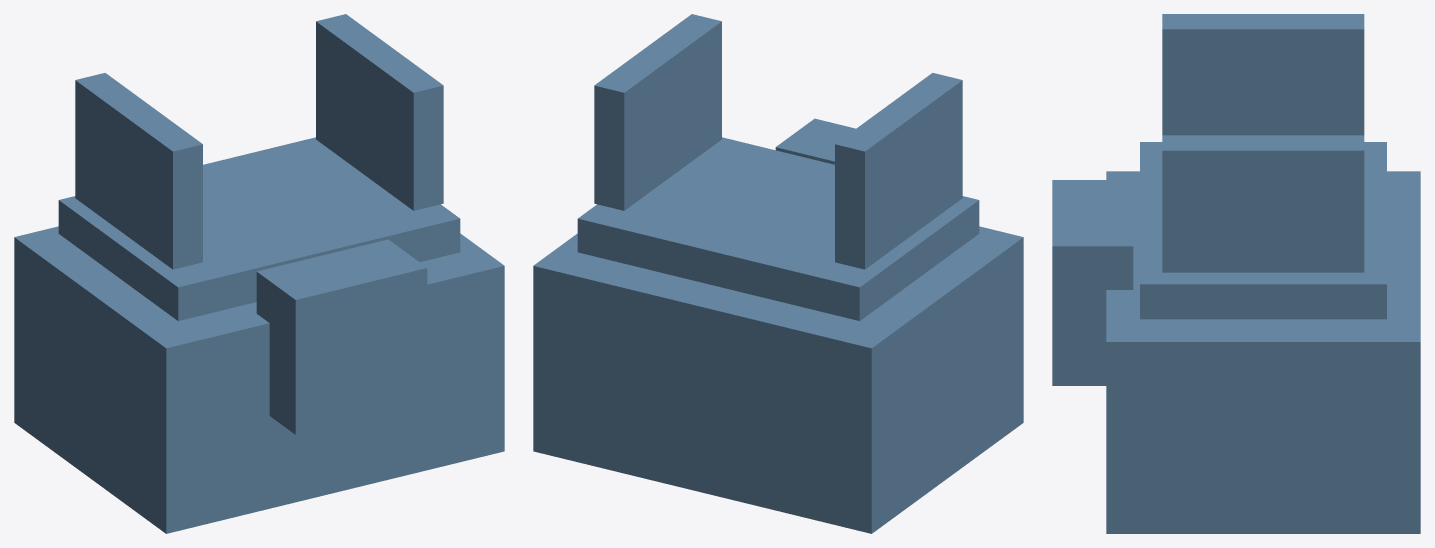
Rendered from glazer.glb.
3 renders of one model, left to right at view 1: azimuth 30°, elevation 25°; view 2: azimuth 150°, elevation 25°; view 3: azimuth 270°, elevation 25°, orthographic. The views are drawn at different scales.
Visible parts, largest first — view 1: module.glazer; view 2: module.glazer; view 3: module.glazer.
Boxes of the visible parts, box(x1,y1,x2,y2) form: module.glazer: box(14, 14, 504, 533); module.glazer: box(533, 14, 1023, 533); module.glazer: box(1052, 14, 1420, 533).
Size of the model in its own units: 1 by 1 by 0.9111.
